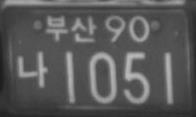0: (89, 50, 116, 104), (128, 14, 149, 42)
1: (58, 51, 83, 103), (156, 51, 179, 105)
5: (123, 51, 150, 105)
9: (105, 14, 125, 42)
나: (17, 50, 48, 87)
부산_O: (45, 14, 97, 42)
